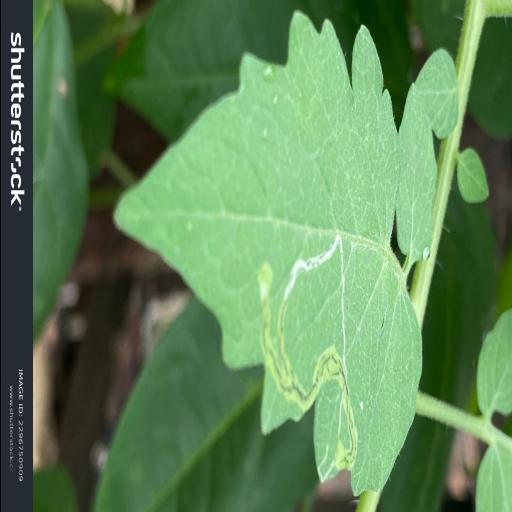Leaf Miner: (108, 0, 422, 512)
